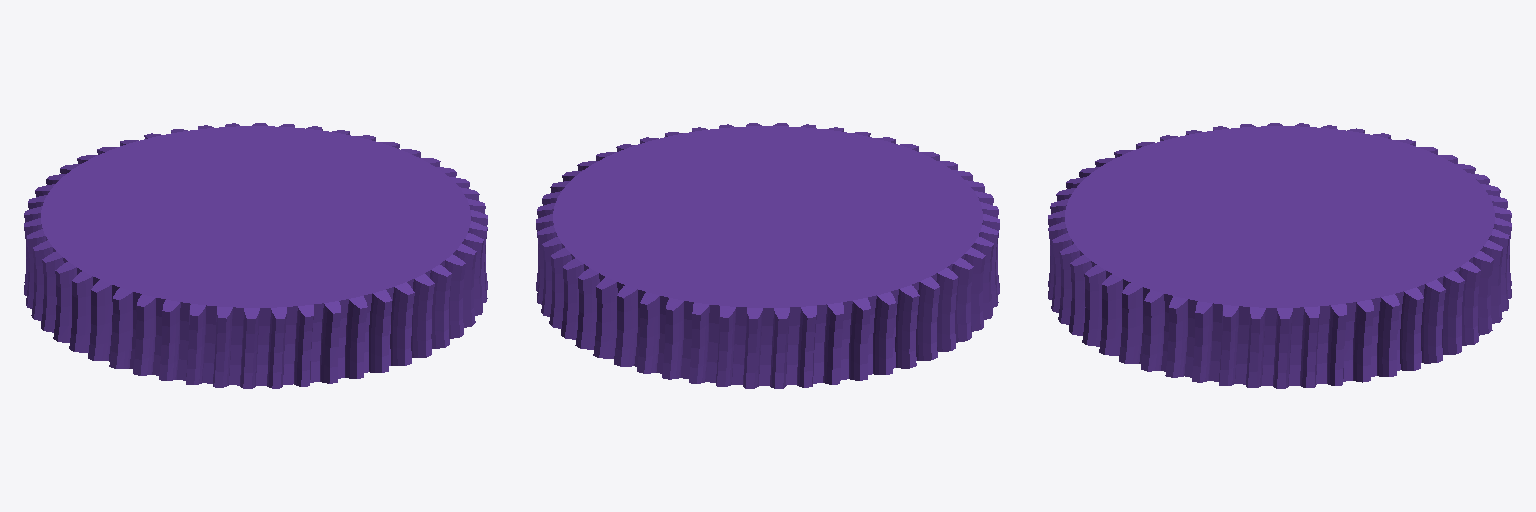
Rendered from spur.obj.
3 views of the same model, side by side, from view 1: azimuth 30°, elevation 25°; view 2: azimuth 150°, elevation 25°; view 3: azimuth 270°, elevation 25° (orthographic).
Parts seen in each view (by area): view 1: Spur_Gear; view 2: Spur_Gear; view 3: Spur_Gear.
Boxes of the visible parts, <box> form: Spur_Gear: <box>24,123,487,388</box>; Spur_Gear: <box>536,123,999,388</box>; Spur_Gear: <box>1048,123,1511,388</box>.
Bounding box in the file's own units: 0.0259 × 0.0048 × 0.0259.